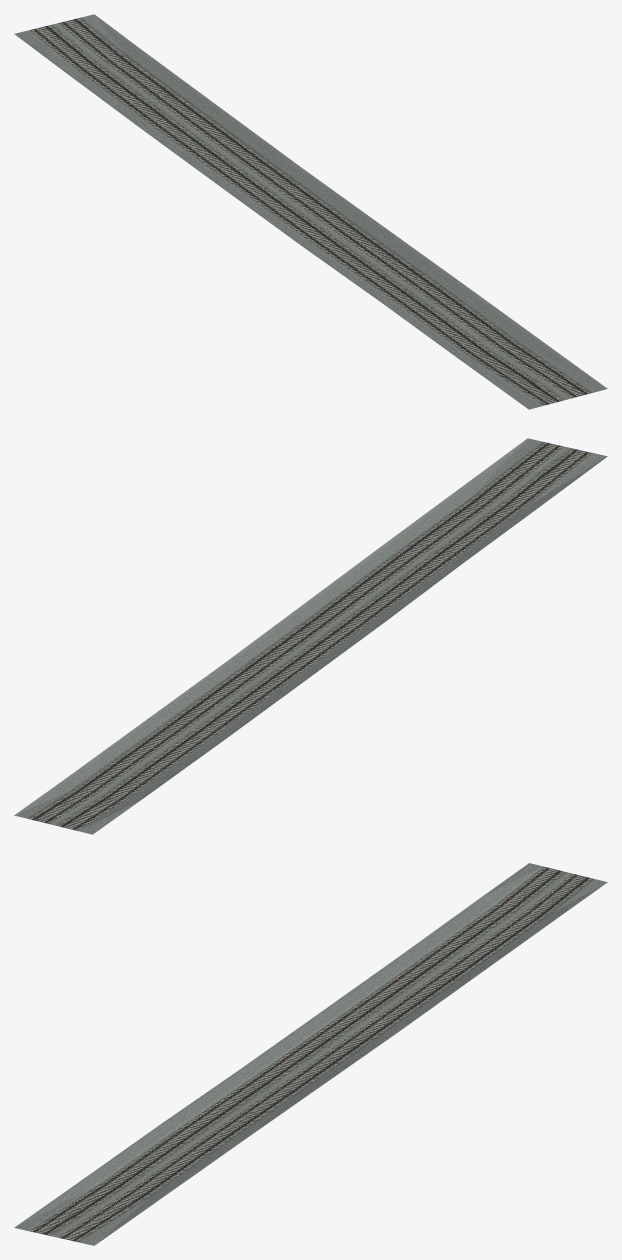
Rendered from lod_des_line14.obj.
3 renders of one model, top to bottom at view 1: azimuth 30°, elevation 25°; view 2: azimuth 150°, elevation 25°; view 3: azimuth 330°, elevation 25°, orthographic. The views are drawn at different scales.
Visible parts, largest first — view 1: lod_des_line14; view 2: lod_des_line14; view 3: lod_des_line14.
Part boxes in pixels (box(x1,y1,x2,y2)): lod_des_line14: box(14, 14, 607, 409); lod_des_line14: box(14, 438, 607, 834); lod_des_line14: box(14, 863, 607, 1245).
Bounding box in the file's own units: 11.85 × 1.4 × 124.
1 material, 1 textured.
